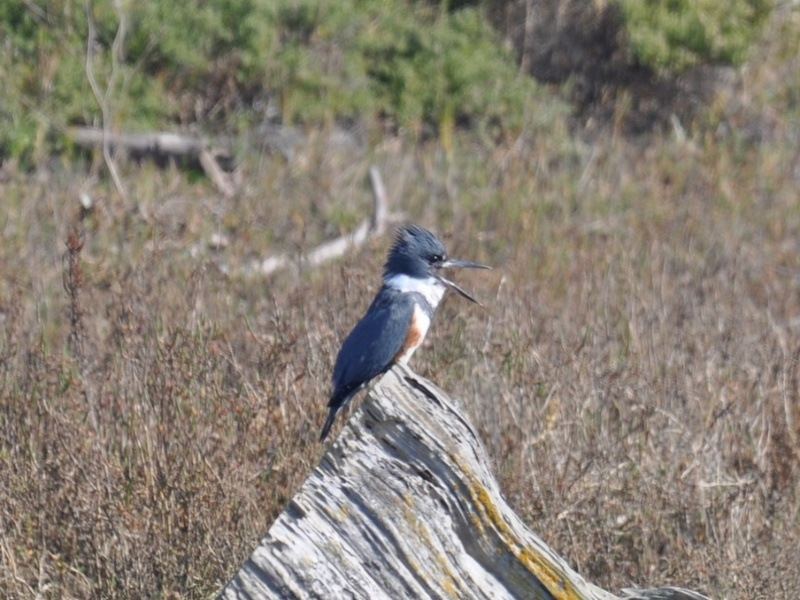kingfisher: (319, 220, 491, 446)
